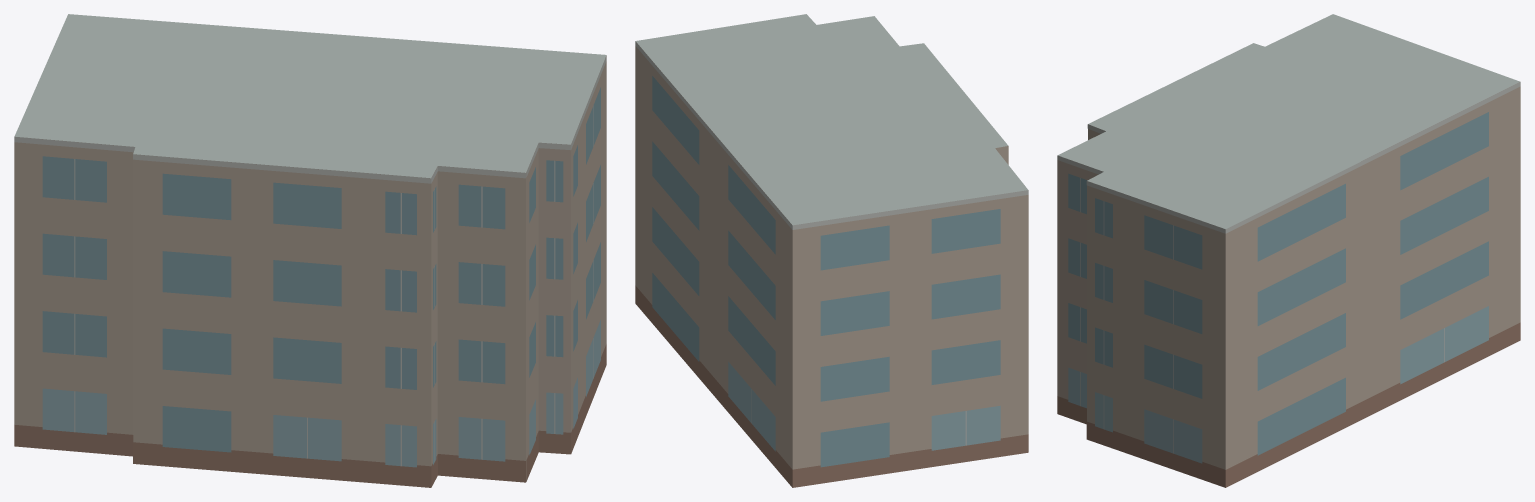
File: survey-upis-32846914.glb
3 views of the same model, side by side, from view 1: azimuth 30°, elevation 25°; view 2: azimuth 150°, elevation 25°; view 3: azimuth 270°, elevation 25° (orthographic). The views are drawn at different scales.
Visible parts, largest first — view 1: survey-upis-32846914.tmp; view 2: survey-upis-32846914.tmp; view 3: survey-upis-32846914.tmp.
Part boxes in pixels (x1=…): survey-upis-32846914.tmp: x1=14, y1=14, x2=606, y2=487; survey-upis-32846914.tmp: x1=635, y1=14, x2=1028, y2=487; survey-upis-32846914.tmp: x1=1057, y1=14, x2=1520, y2=487.
Size of the model in its own units: 24.56 by 13.76 by 22.34.
